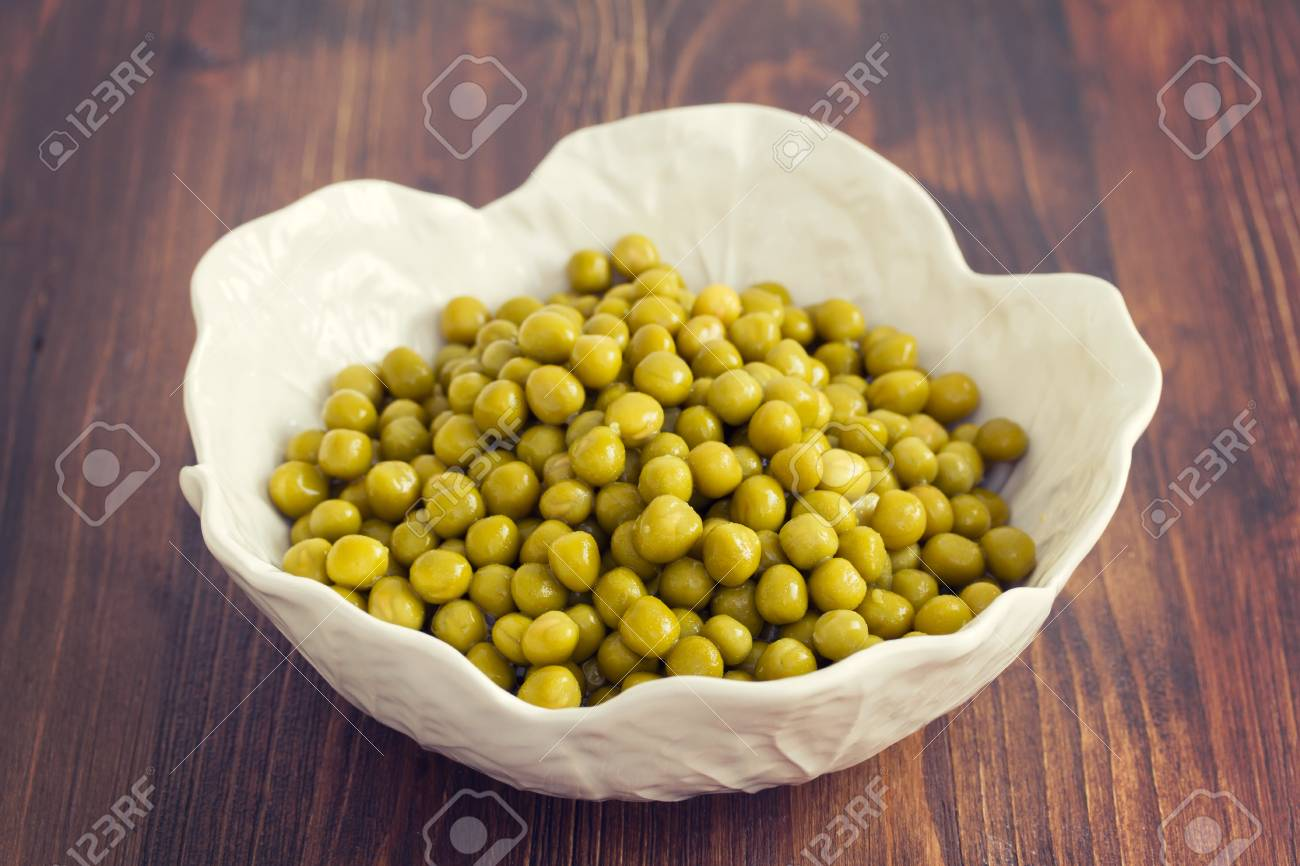boiled peas: (304, 263, 957, 638)
